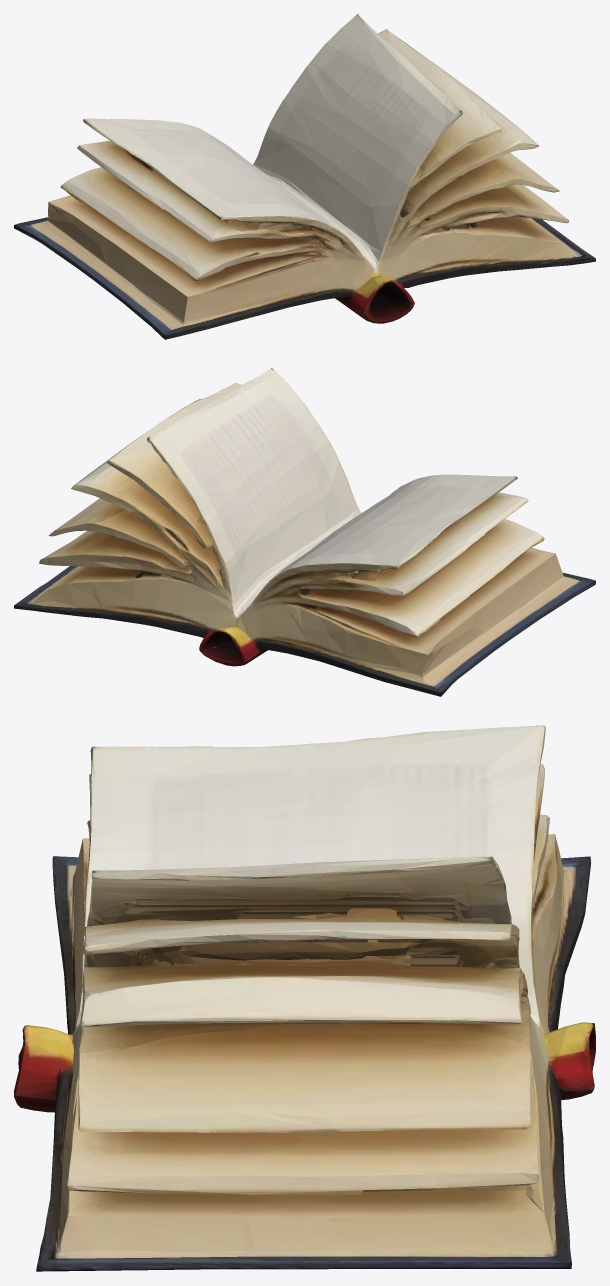
Rendered from book_open.glb.
The picture shows the model from 3 angles, top to bottom: view 1: azimuth 30°, elevation 25°; view 2: azimuth 150°, elevation 25°; view 3: azimuth 270°, elevation 25°; orthographic projection. The views are drawn at different scales.
Visible parts, largest first — view 1: geometry_0; view 2: geometry_0; view 3: geometry_0.
Part boxes in pixels (<box>): geometry_0: <box>14,14,595,339</box>; geometry_0: <box>14,368,595,696</box>; geometry_0: <box>14,725,595,1271</box>.
Bounding box in the file's own units: 0.9986 × 0.4225 × 0.6642.
1 material, 1 textured.
